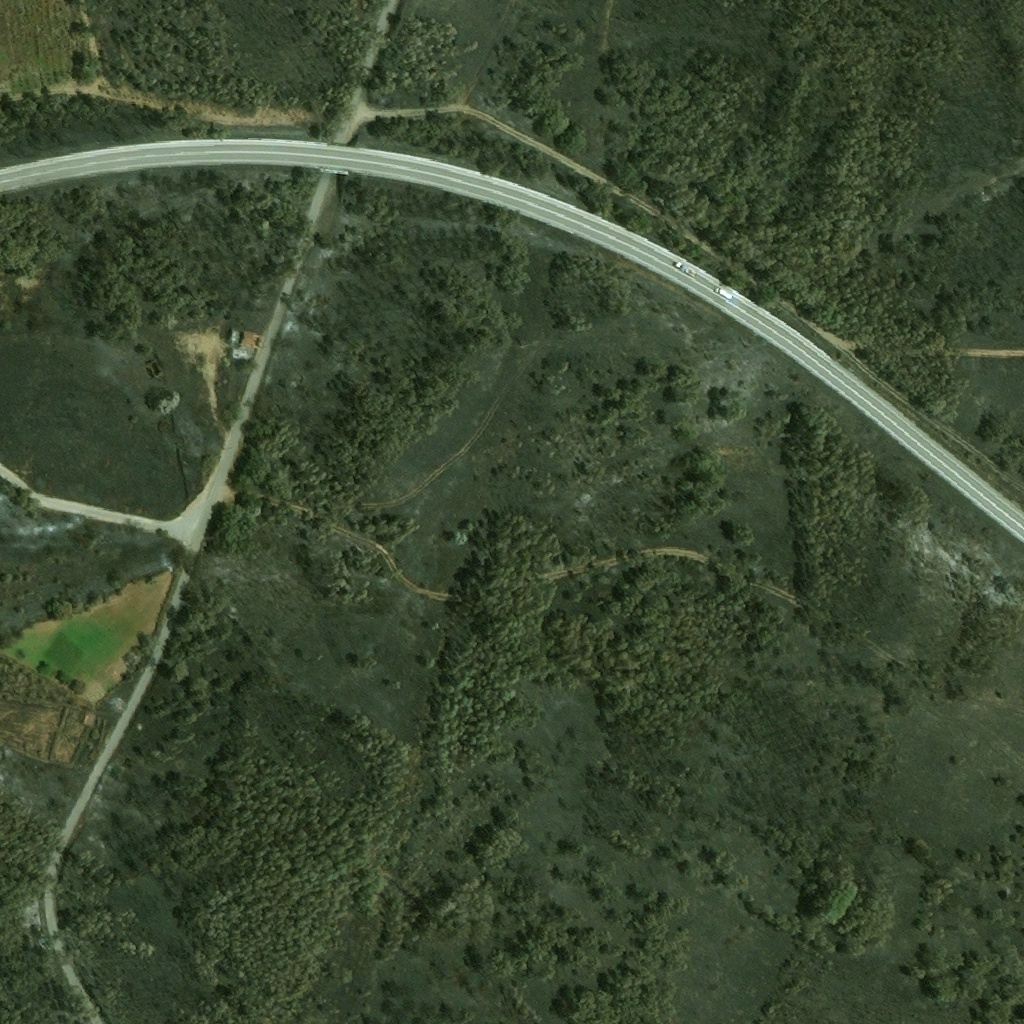3 destroyed: (230, 347, 251, 361), (112, 698, 124, 709), (228, 328, 237, 340)
